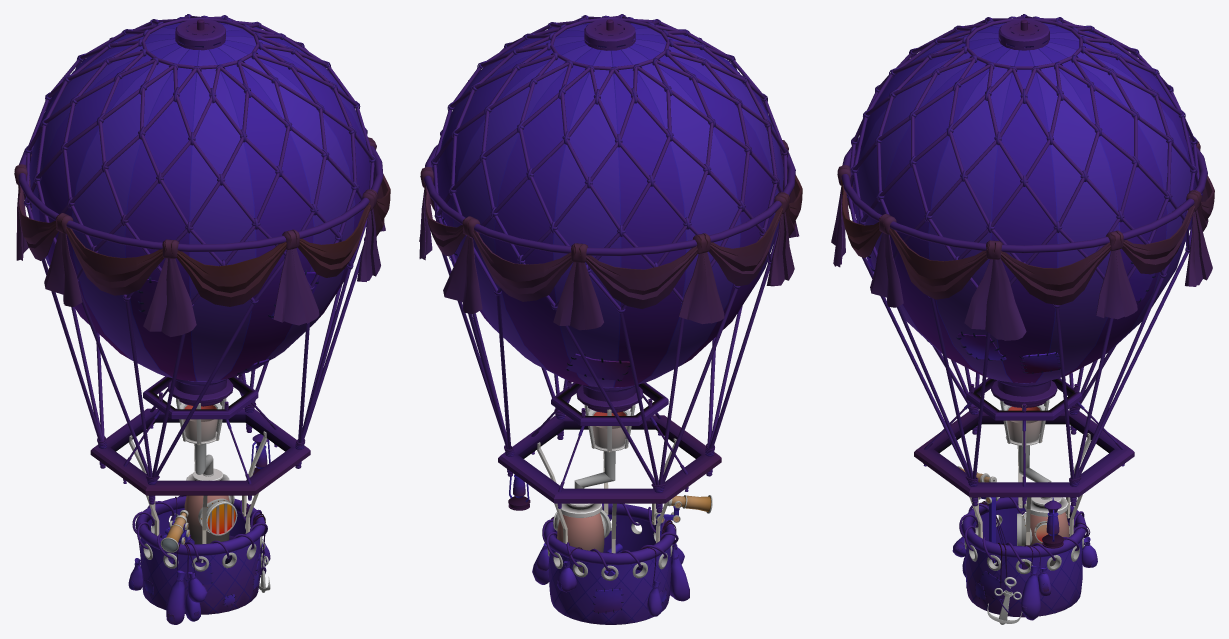
File: hot_air_balloon-blue.glb
3 renders of one model, left to right at view 1: azimuth 30°, elevation 25°; view 2: azimuth 150°, elevation 25°; view 3: azimuth 270°, elevation 25°, orthographic.
Parts seen in each view (by area): view 1: BezierCurve.003; view 2: BezierCurve.003; view 3: BezierCurve.003.
Boxes of the visible parts, bbox=[...] form: BezierCurve.003: bbox=[14, 14, 390, 624]; BezierCurve.003: bbox=[419, 14, 802, 624]; BezierCurve.003: bbox=[831, 14, 1214, 624].
Bounding box in the file's own units: 10.02 × 16.79 × 10.09.
